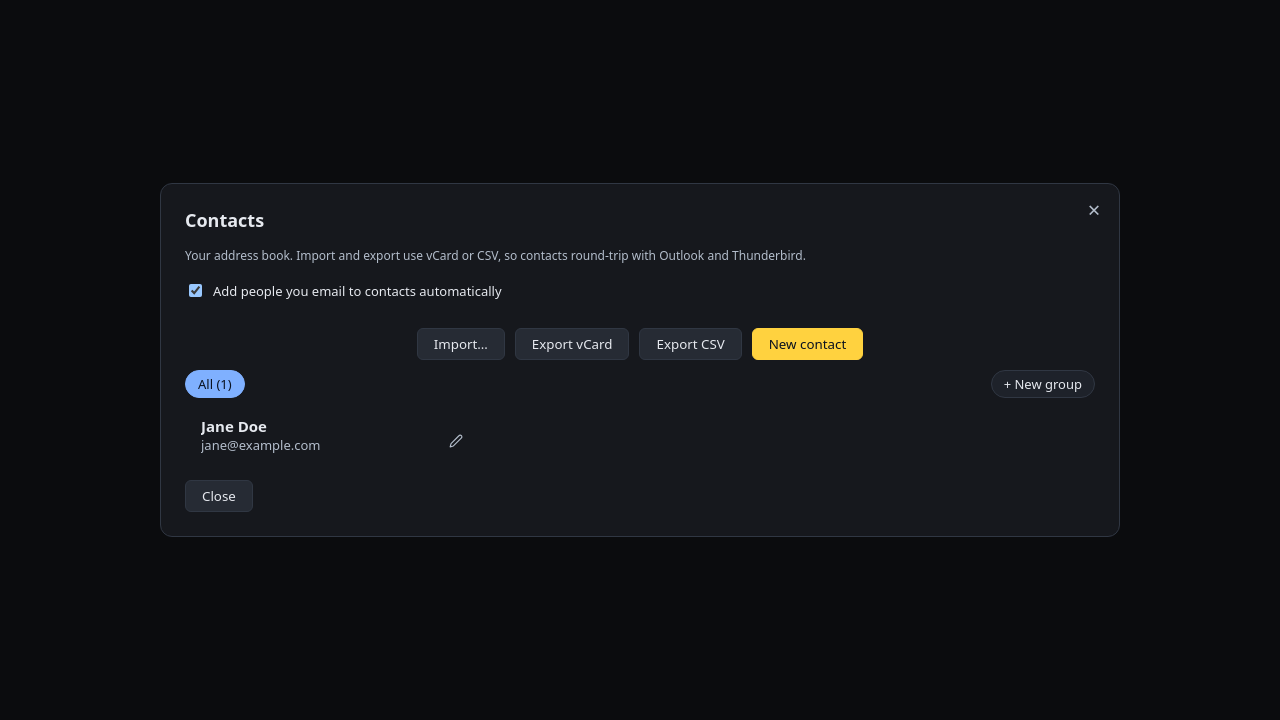
Test case: ContactsModal: layout and delete placement › every added address carries a visible remove control that removes it
Click the text "Jane Doe".
click(234, 426)  # box [201,416,267,436]
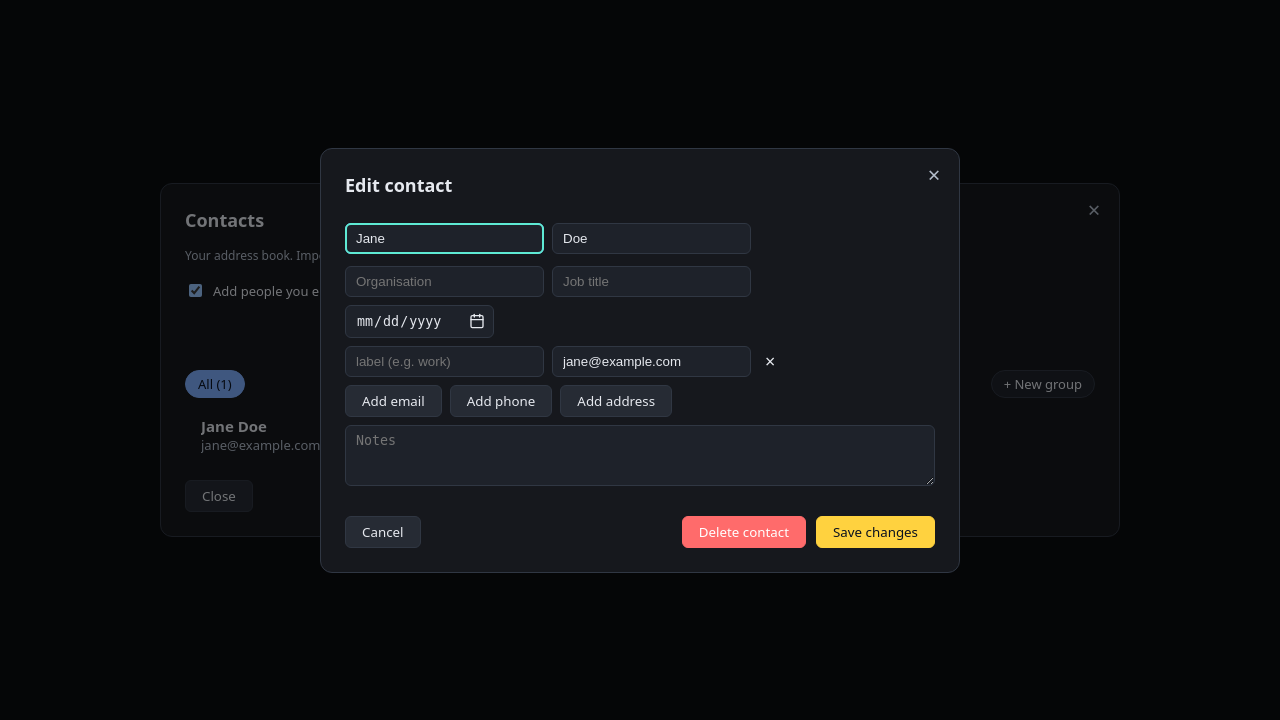
Click the button "Add address".
click(616, 400)  # box [560,384,672,416]
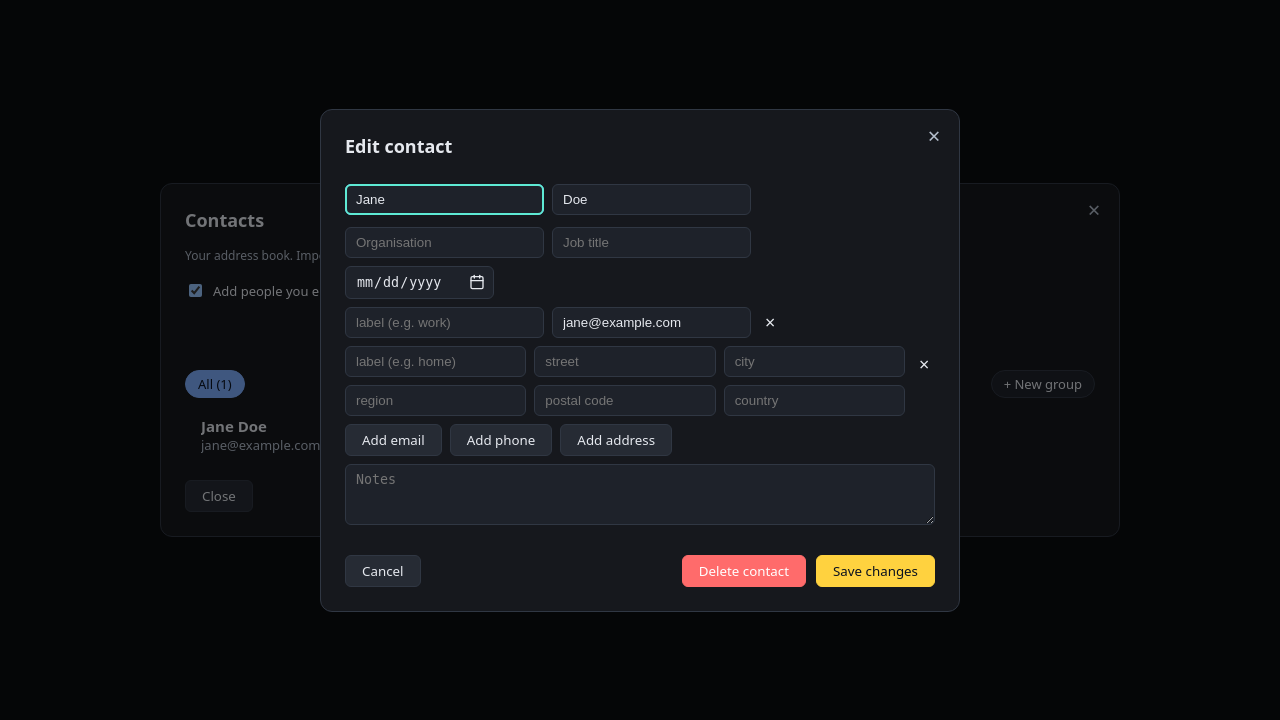
Click the button "Add address".
click(616, 440)  # box [560,424,672,456]
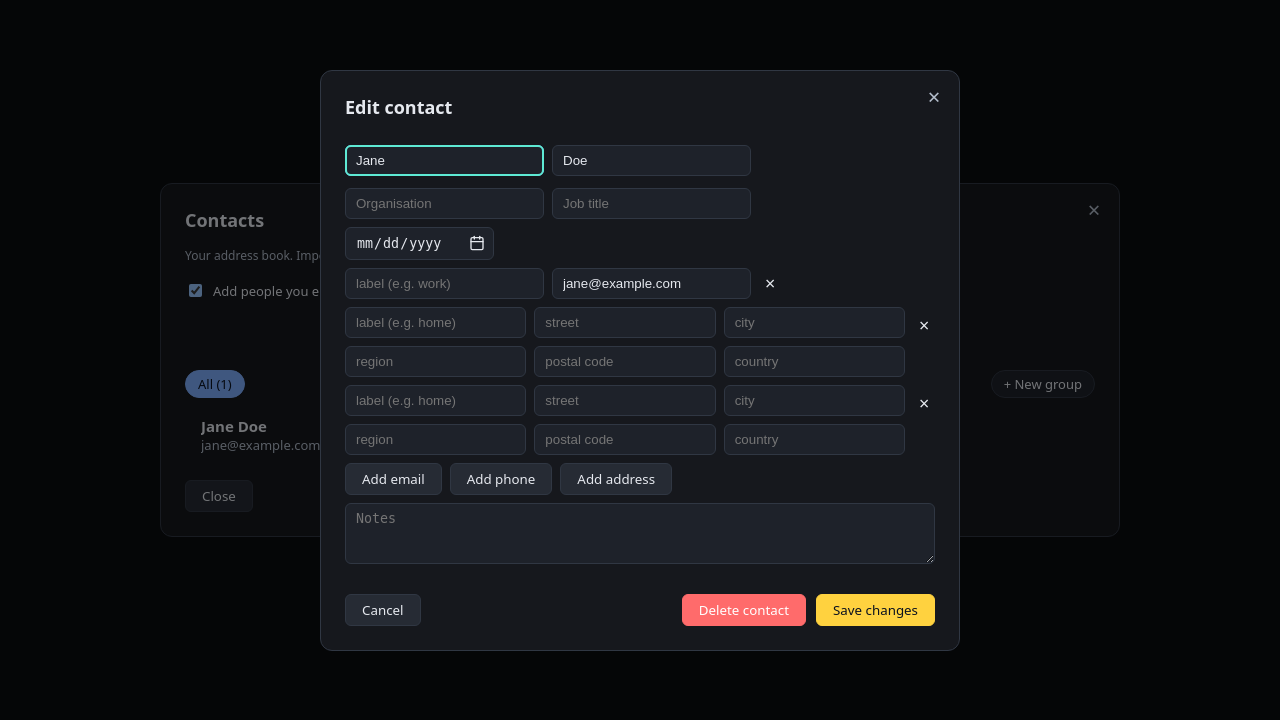
Type "1 First Lane" into the 1st field with placeholder "street".
click(625, 322); type("1 First Lane")  # box [534,306,716,338]
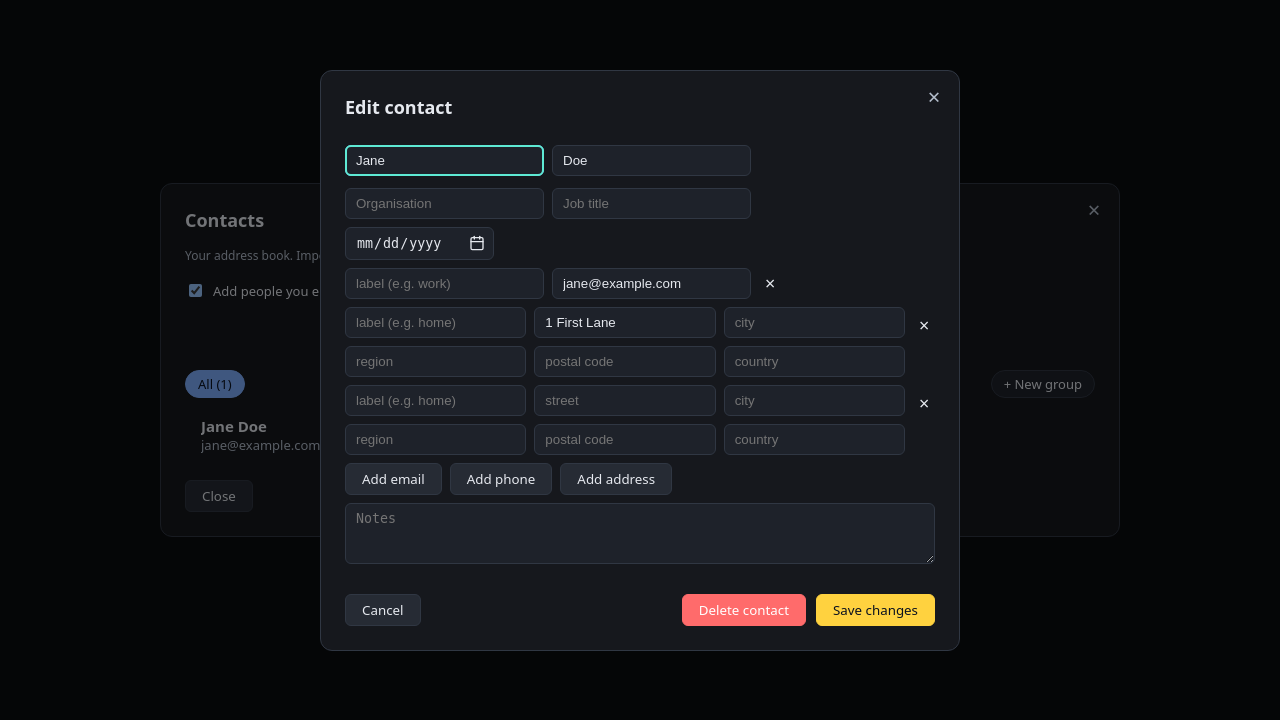
Expected: the number of buttons named "Remove address" is 2
Click the button named "Remove address".
click(924, 324)  # box [913,314,935,336]
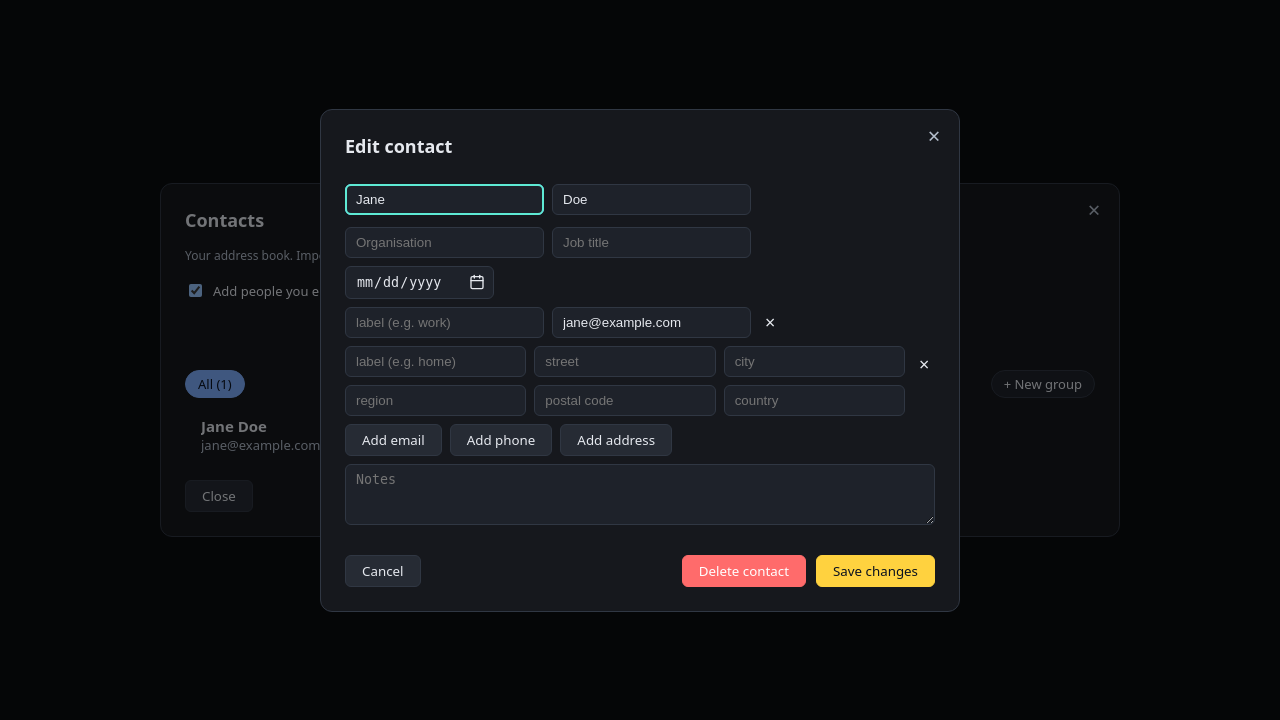
Expected: the number of buttons named "Remove address" is 1, [913,352,935,374]
Expected: the field with placeholder "street" is empty, [534,346,716,376]
